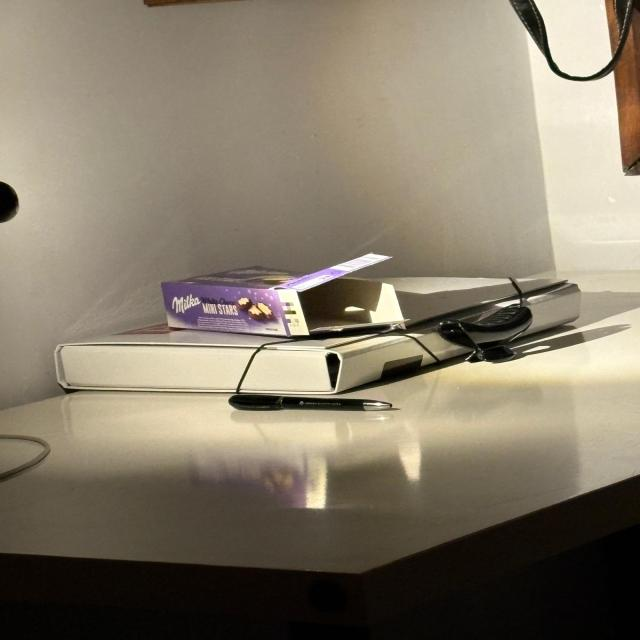damaged_package: (166, 252, 408, 334)
